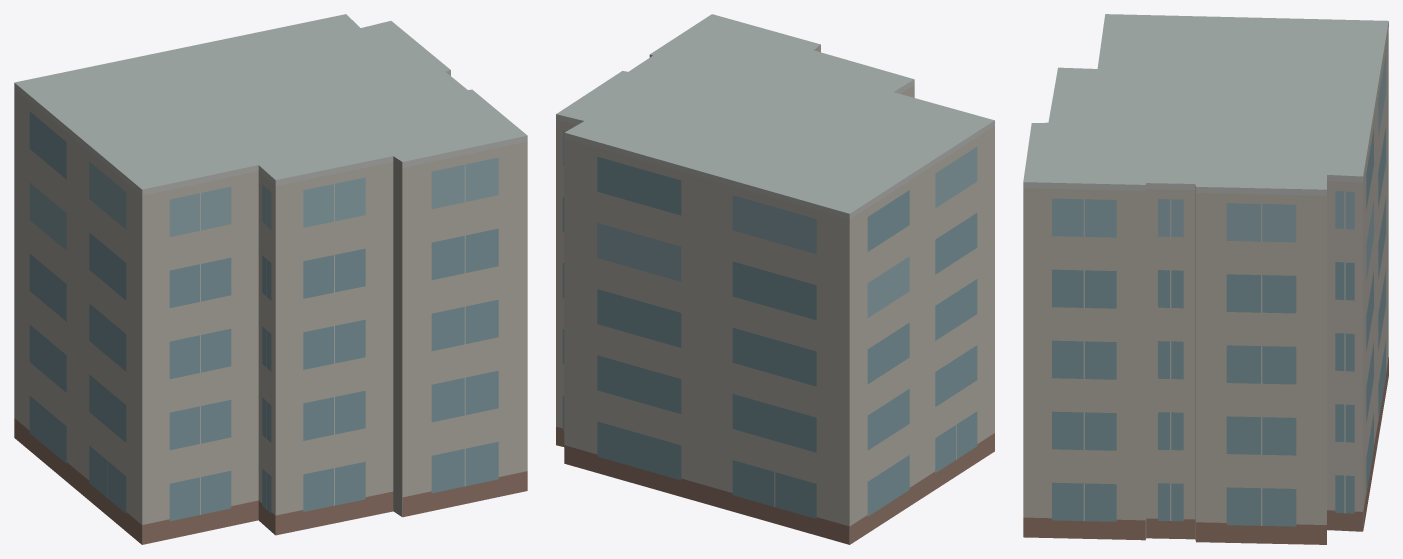
Rendered from survey-upis-32950795.glb.
3 views of the same model, side by side, from view 1: azimuth 30°, elevation 25°; view 2: azimuth 150°, elevation 25°; view 3: azimuth 270°, elevation 25° (orthographic). The views are drawn at different scales.
Visible parts, largest first — view 1: survey-upis-32950795.tmp; view 2: survey-upis-32950795.tmp; view 3: survey-upis-32950795.tmp.
Part boxes in pixels (x1=…): survey-upis-32950795.tmp: x1=14, y1=14, x2=527, y2=544; survey-upis-32950795.tmp: x1=556, y1=14, x2=994, y2=544; survey-upis-32950795.tmp: x1=1023, y1=14, x2=1388, y2=544.
Bounding box in the file's own units: 15.39 × 14.5 × 13.54.
